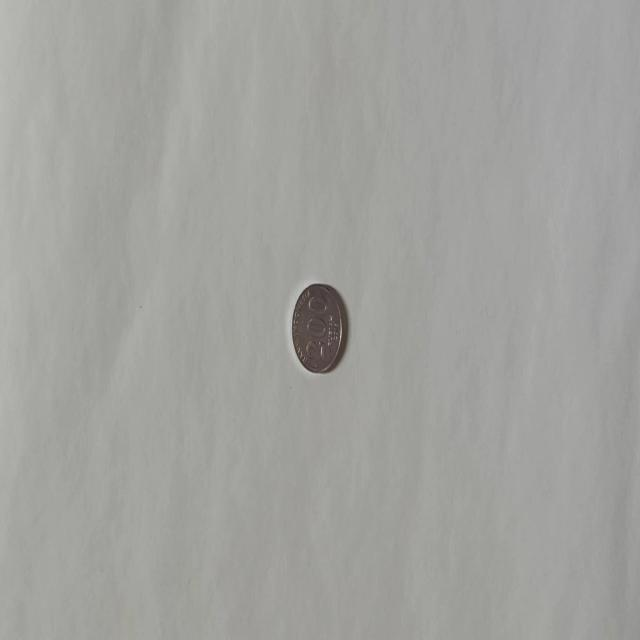dua ratus rupiah: (290, 282, 342, 374)
